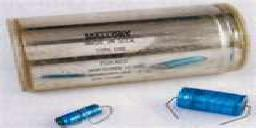Electrolytic-Capacitor: (5, 3, 254, 88), (165, 85, 256, 125), (54, 102, 115, 128)
